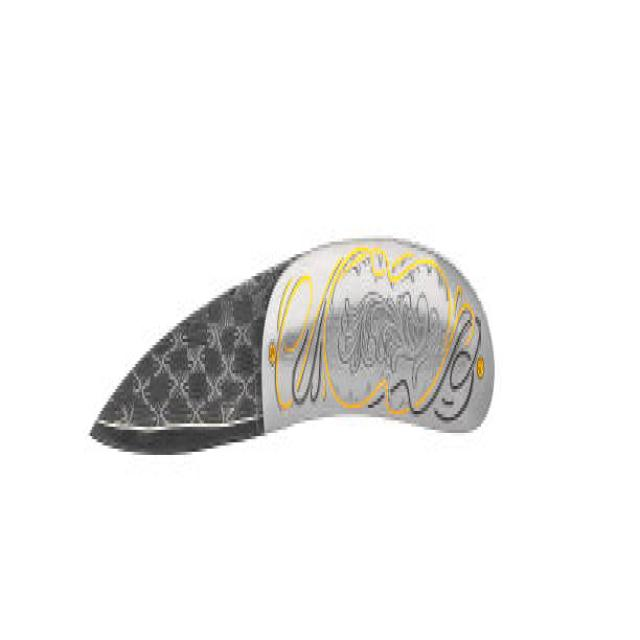knife: (79, 228, 501, 504)
